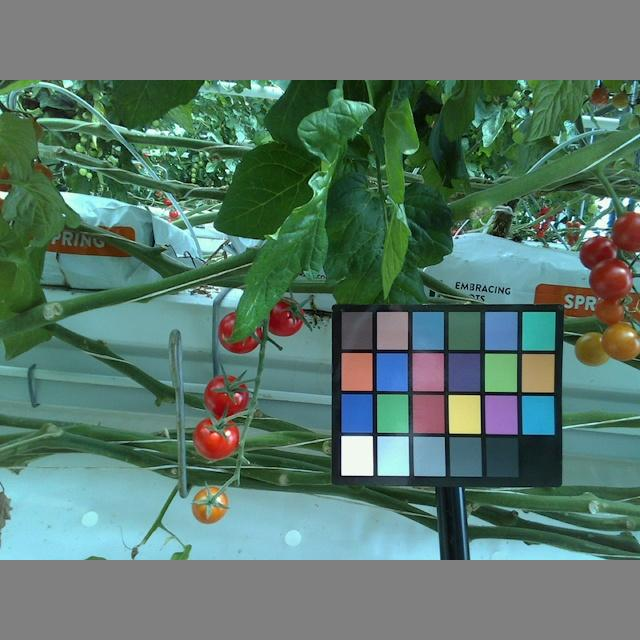pink: (190, 484, 231, 525), (601, 321, 640, 360), (574, 332, 617, 367), (593, 295, 628, 325)
red: (216, 310, 263, 356), (192, 419, 241, 463), (204, 374, 250, 419), (588, 261, 635, 302), (261, 297, 304, 337), (580, 234, 618, 274), (612, 212, 640, 250)
